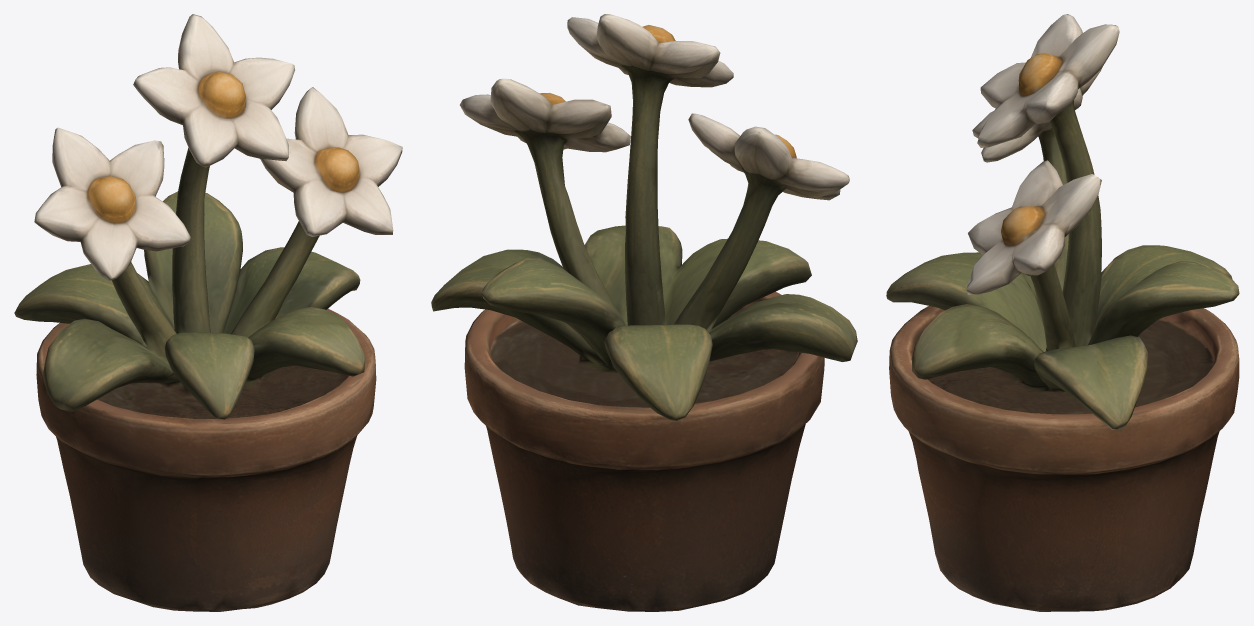
The model's file is Prop_GreenhousePotD.fbx.
The picture shows the model from 3 angles, left to right: view 1: azimuth 30°, elevation 25°; view 2: azimuth 150°, elevation 25°; view 3: azimuth 270°, elevation 25°; orthographic projection. The views are drawn at different scales.
Visible parts, largest first — view 1: texture_mapping; view 2: texture_mapping; view 3: texture_mapping.
Part boxes in pixels (box(x1,y1,x2,y2)): texture_mapping: box(14, 14, 402, 611); texture_mapping: box(431, 14, 857, 611); texture_mapping: box(886, 14, 1239, 611).
Size of the model in its own units: 0.7285 by 0.59 by 1.
Materials: 1 (1 with a texture image).
